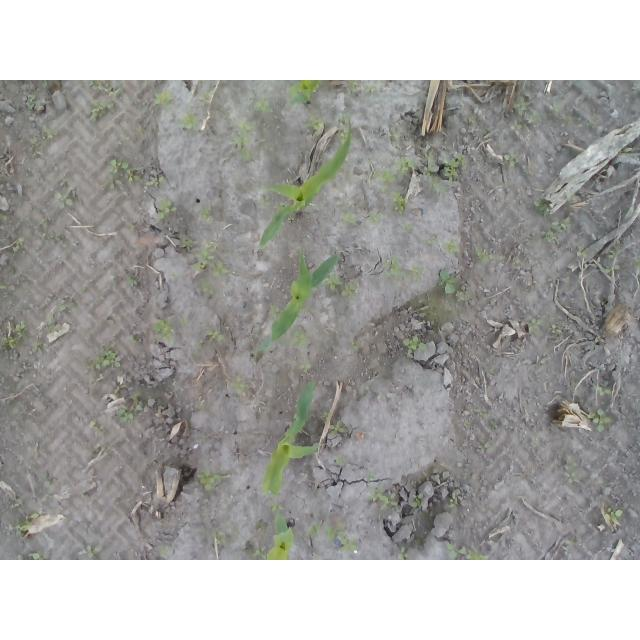Maize: (254, 124, 352, 250), (257, 251, 340, 354), (265, 379, 321, 501), (262, 512, 294, 561)
Weeds: (368, 157, 416, 194), (424, 151, 464, 194), (193, 239, 232, 277), (511, 95, 542, 131), (230, 118, 255, 162), (0, 315, 28, 354), (367, 471, 398, 506), (384, 256, 424, 282), (108, 159, 141, 190), (323, 271, 362, 297), (86, 347, 122, 370), (328, 527, 358, 553), (447, 542, 489, 560), (587, 408, 615, 433), (401, 334, 427, 359), (152, 88, 177, 112), (152, 320, 176, 345), (15, 511, 38, 537), (437, 269, 459, 295), (543, 221, 573, 240), (174, 111, 200, 129), (197, 471, 221, 490), (78, 542, 103, 560), (390, 191, 407, 217), (535, 193, 552, 219), (32, 127, 56, 145), (90, 102, 113, 120), (289, 329, 311, 347), (498, 152, 521, 169), (475, 247, 498, 264), (131, 389, 146, 415), (159, 199, 178, 219), (200, 331, 225, 346), (564, 455, 577, 483), (116, 405, 134, 424), (443, 239, 461, 257), (230, 380, 248, 398), (56, 192, 75, 209), (528, 317, 545, 335), (340, 211, 359, 226), (199, 278, 215, 295), (606, 506, 623, 522), (267, 303, 281, 322), (143, 176, 165, 188), (306, 116, 328, 128), (592, 383, 612, 396), (254, 100, 273, 113), (307, 521, 322, 537), (200, 208, 214, 224), (56, 303, 80, 312), (366, 211, 382, 224), (336, 112, 352, 125), (46, 323, 63, 335), (346, 80, 358, 96), (547, 322, 561, 335), (197, 91, 211, 104), (254, 546, 267, 560), (25, 96, 35, 113), (577, 247, 592, 258), (214, 530, 225, 545), (330, 423, 346, 433), (304, 360, 317, 372), (363, 82, 376, 94), (412, 494, 423, 508), (16, 238, 25, 255), (127, 273, 137, 288), (399, 545, 409, 560), (338, 126, 347, 142), (158, 544, 168, 558), (400, 224, 415, 233), (89, 80, 104, 89), (602, 263, 614, 274), (390, 128, 401, 140), (31, 340, 42, 352), (182, 239, 195, 249), (352, 339, 361, 353), (28, 552, 42, 561), (551, 103, 561, 114), (606, 248, 618, 257), (0, 210, 8, 223), (479, 439, 489, 449), (335, 455, 345, 465), (256, 522, 268, 530), (1, 283, 15, 289), (447, 498, 455, 507), (41, 80, 49, 89), (564, 116, 573, 124), (481, 368, 495, 373), (479, 411, 489, 417), (321, 411, 328, 418), (634, 260, 640, 268)
